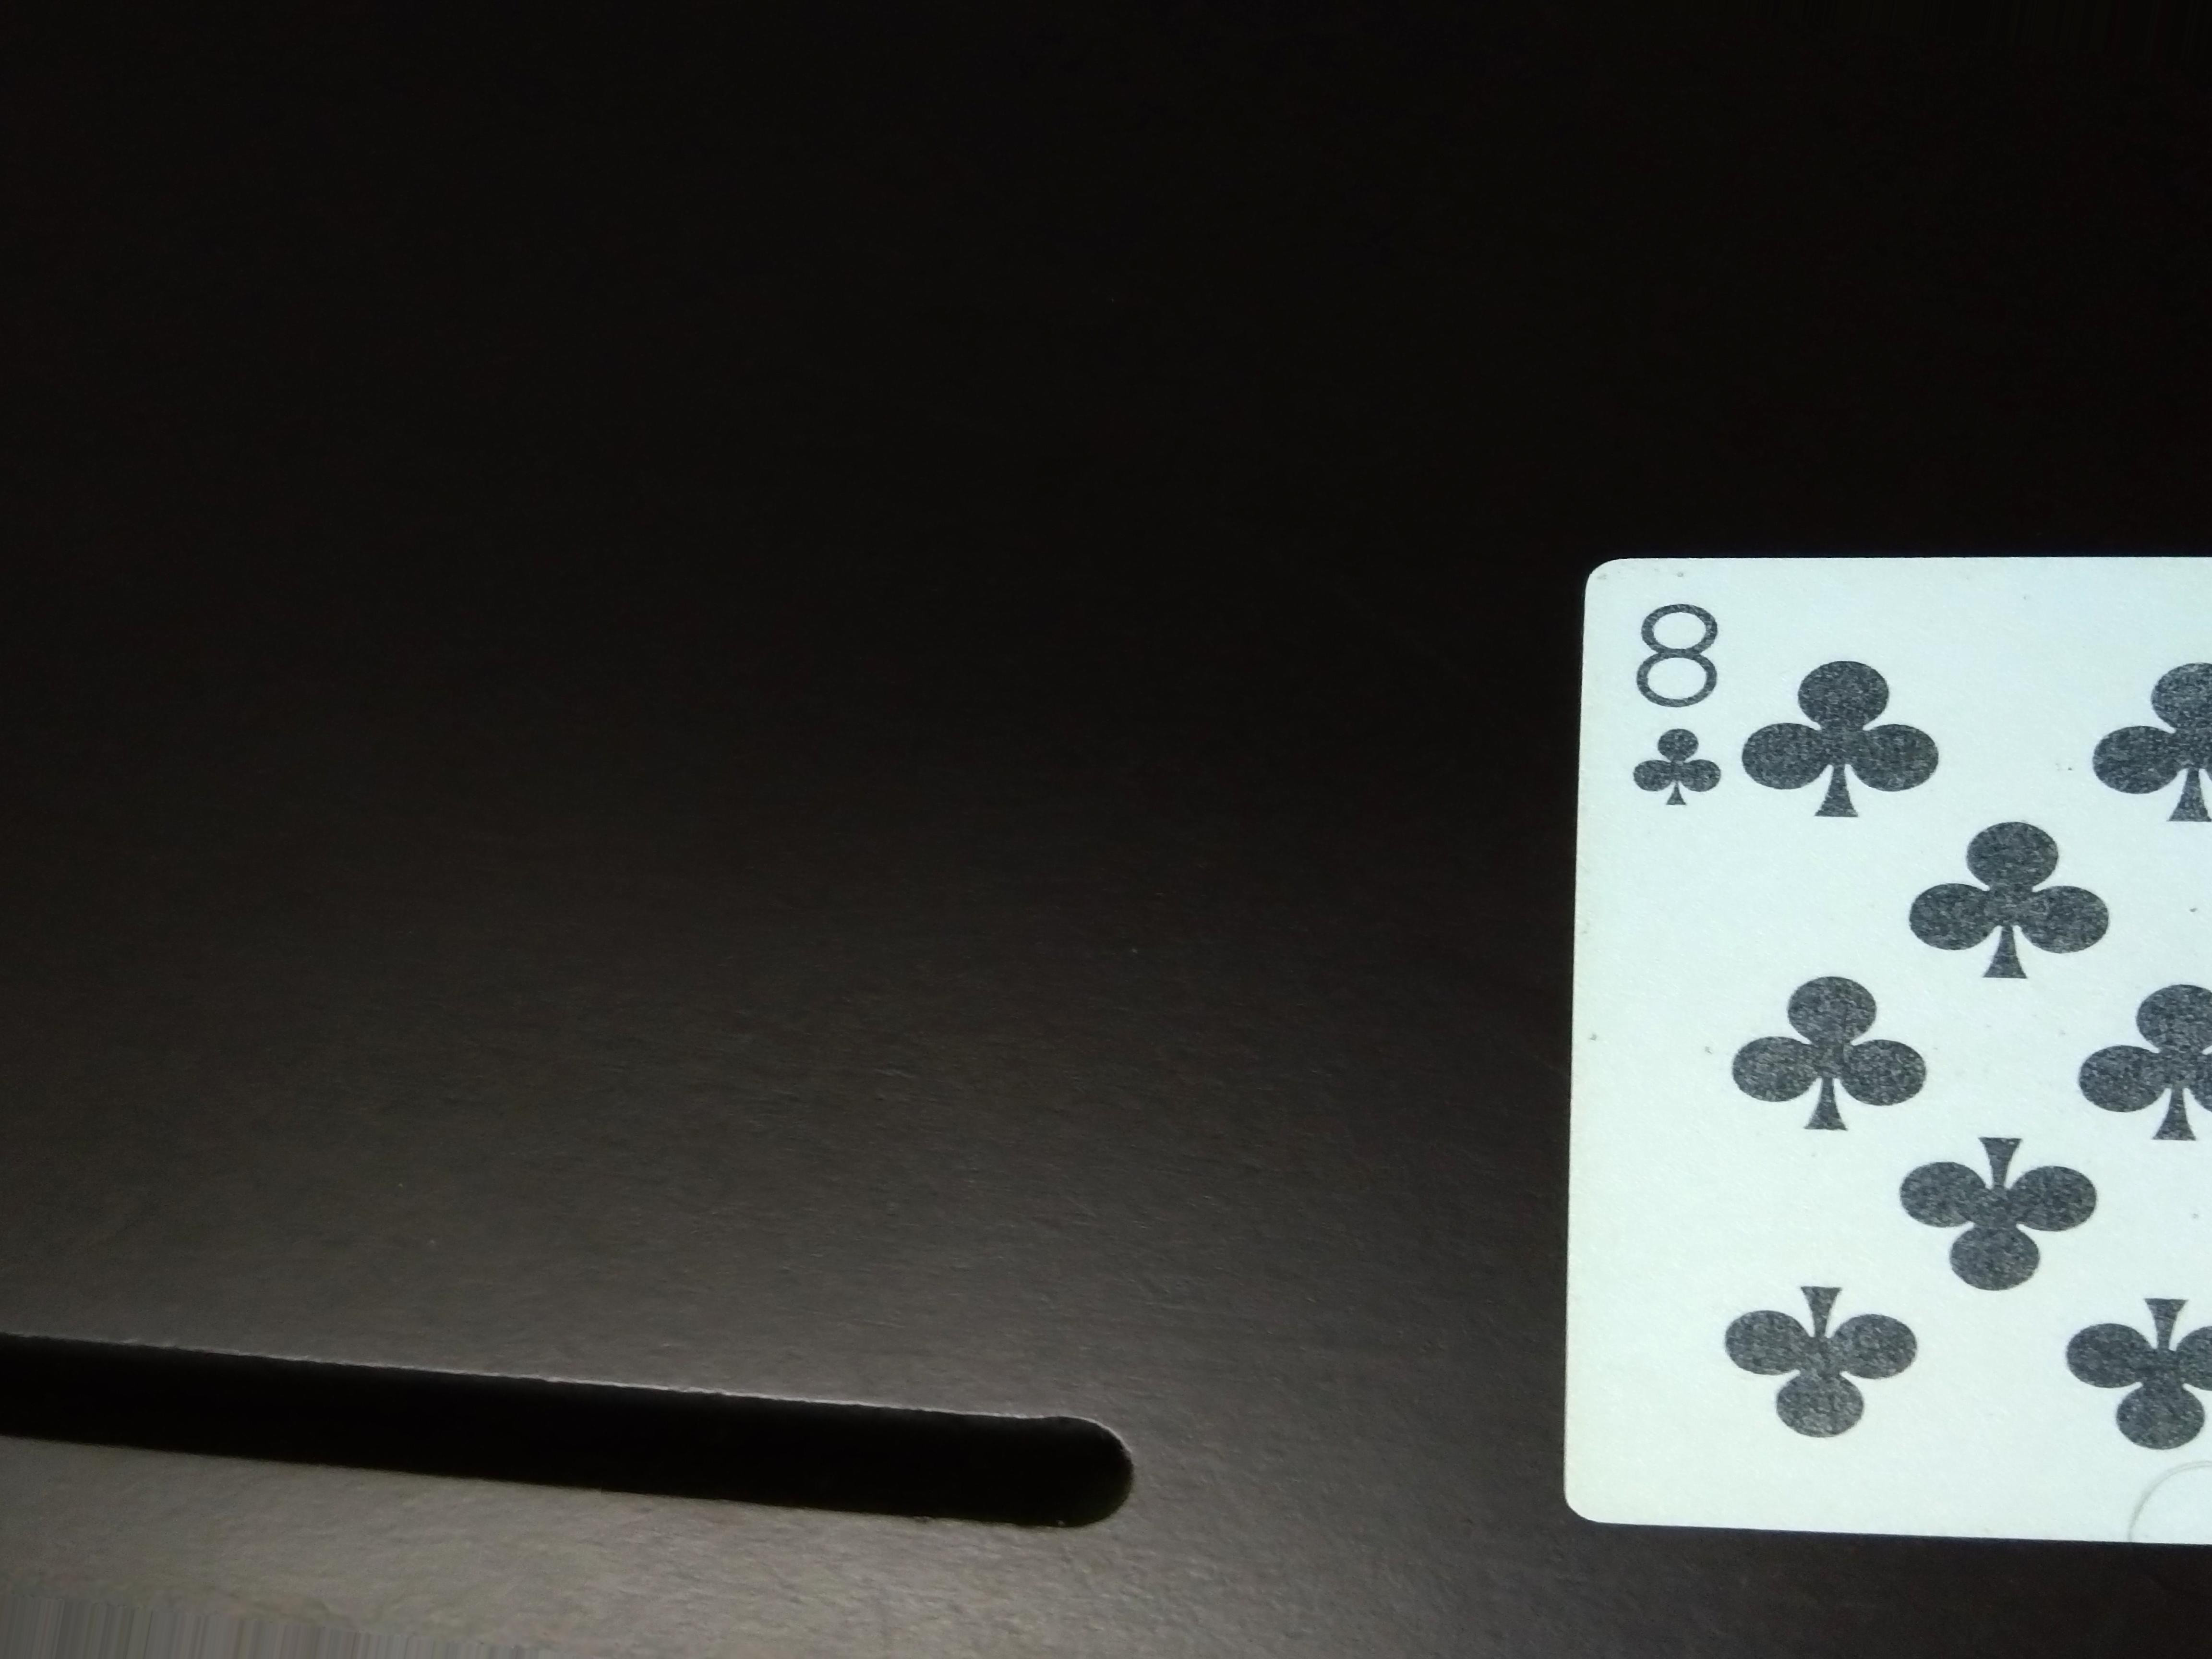8C: (1616, 580, 1743, 817)
